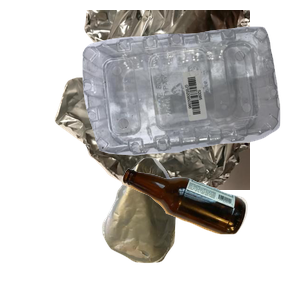glass: (119, 166, 300, 300)
metal: (52, 10, 292, 190)
plastic: (80, 24, 300, 172)
trash: (99, 155, 268, 300)
